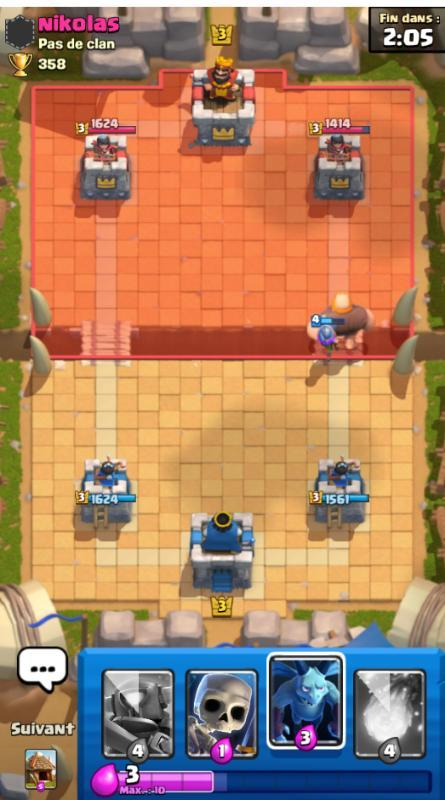player_giant: (316, 290, 375, 345)
player_musketeer: (306, 311, 343, 353)
